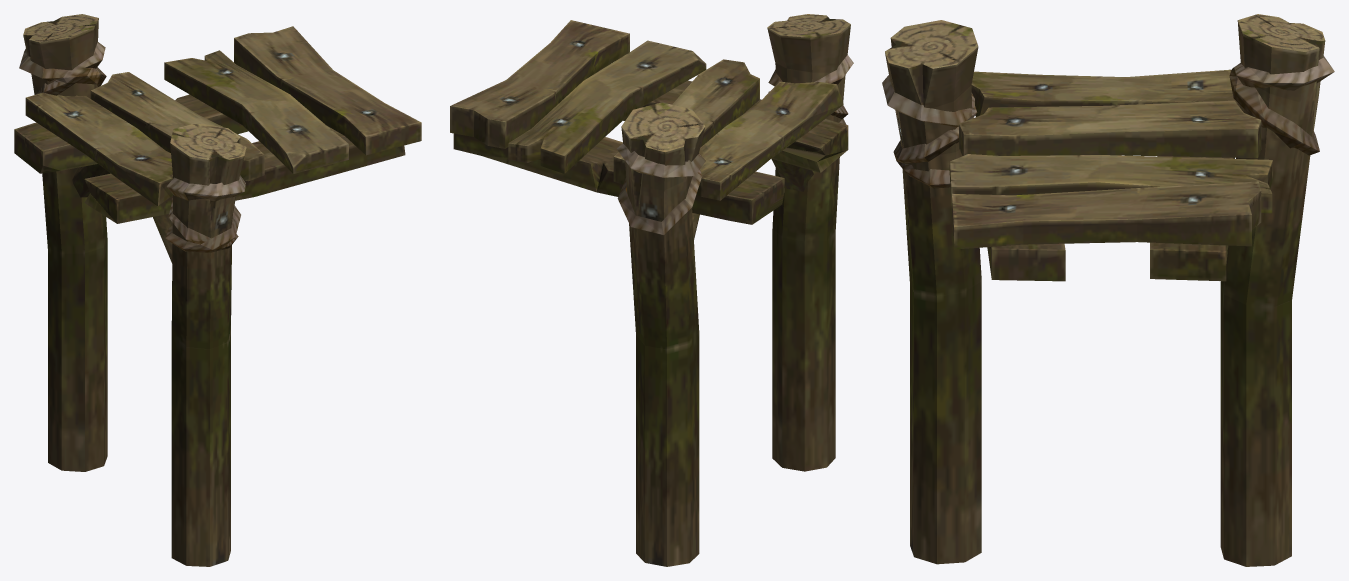
File: dock_02.fbx
The picture shows the model from 3 angles, left to right: view 1: azimuth 30°, elevation 25°; view 2: azimuth 150°, elevation 25°; view 3: azimuth 270°, elevation 25°; orthographic projection. The views are drawn at different scales.
Visible parts, largest first — view 1: obj2; view 2: obj2; view 3: obj2.
Part boxes in pixels (left/top/right/bottom): obj2: left=14, top=14, right=421, bottom=566; obj2: left=450, top=14, right=853, bottom=566; obj2: left=882, top=14, right=1334, bottom=566.
Bounding box in the file's own units: 4.04 × 5.67 × 4.43.
